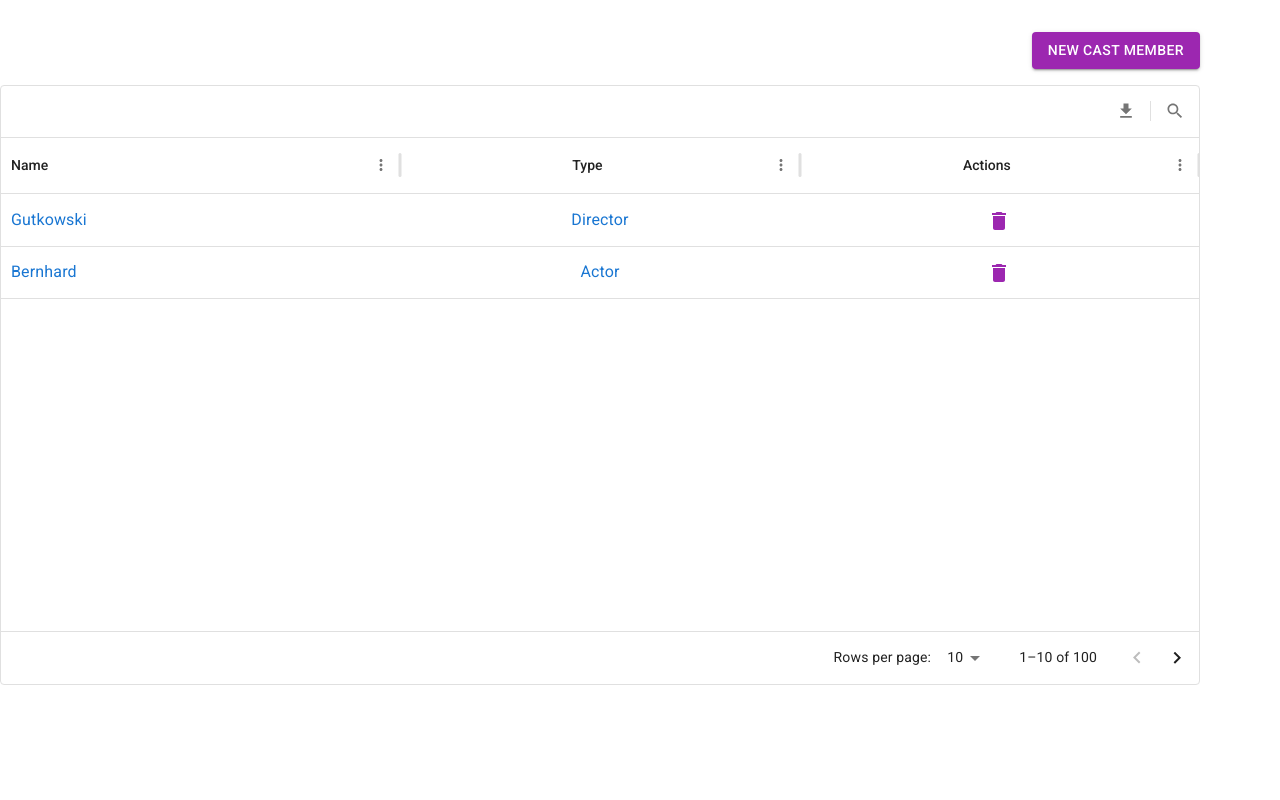
it: ListCastMember › should handle delete category success
Expected: the text "Gutkowski" is shown, x1=11 y1=208 x2=87 y2=232
Click the button with test id "delete-button" in the row of "Gutkowski" at point(999, 221), box x1=979 y1=201 x2=1019 y2=241
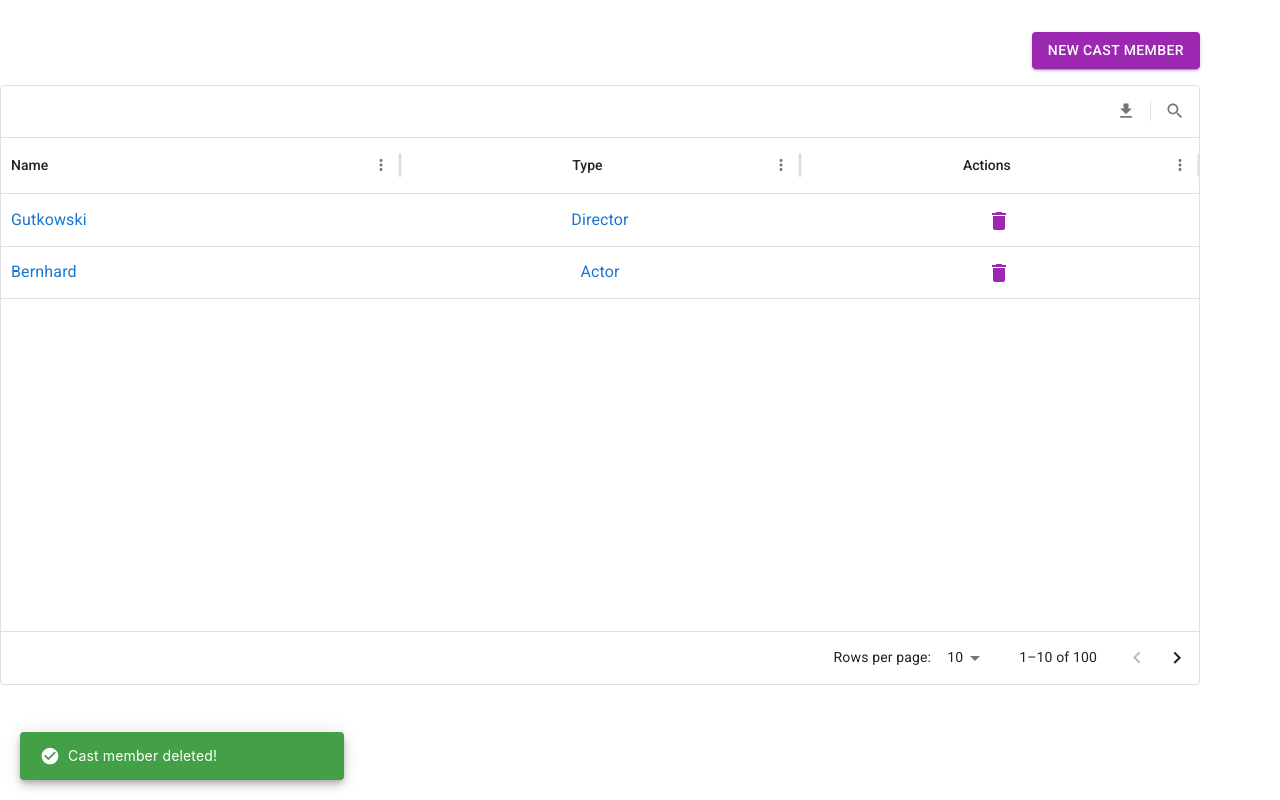
Result: the text "Cast member deleted!" is shown at x1=40 y1=746 x2=217 y2=766
